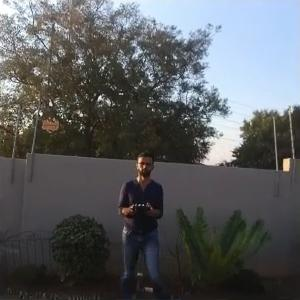follow: (117, 147, 180, 298)
